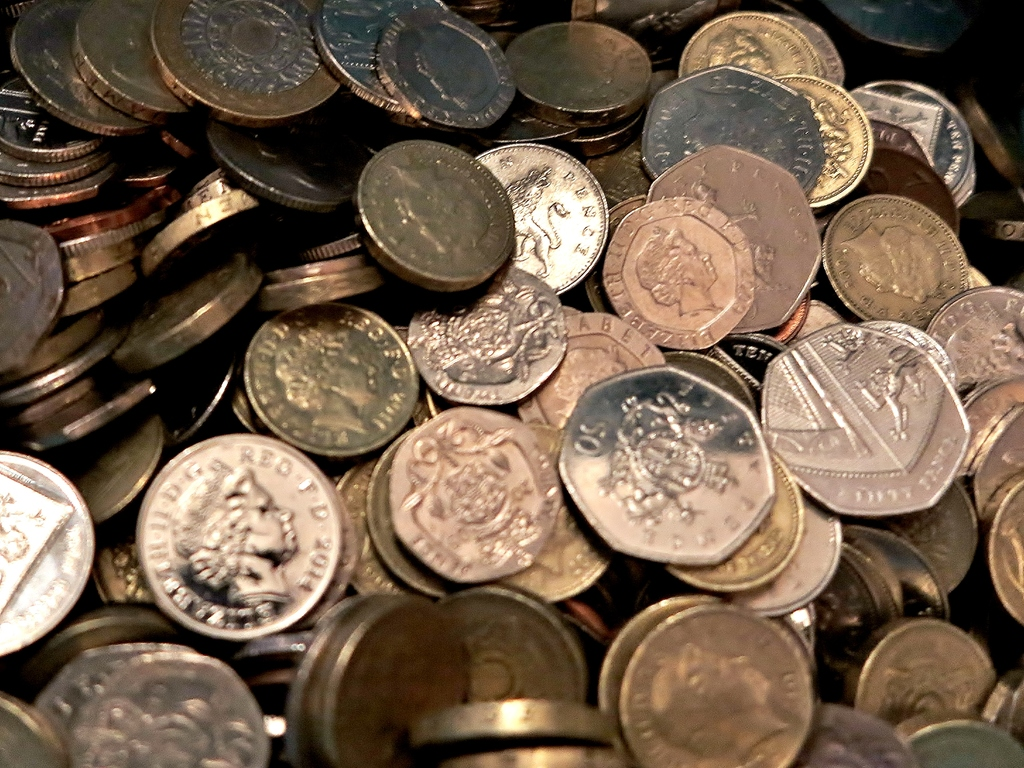Coin: (0, 0, 1024, 767)
